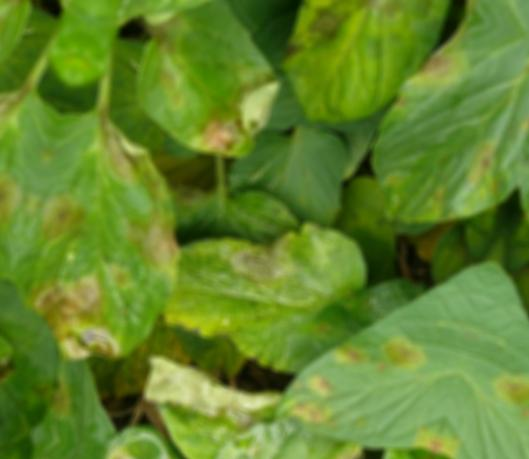Tomato Early blight leaf: (0, 111, 205, 377), (150, 188, 409, 394), (342, 0, 529, 258), (97, 0, 301, 167), (268, 0, 450, 168), (197, 397, 367, 459)
